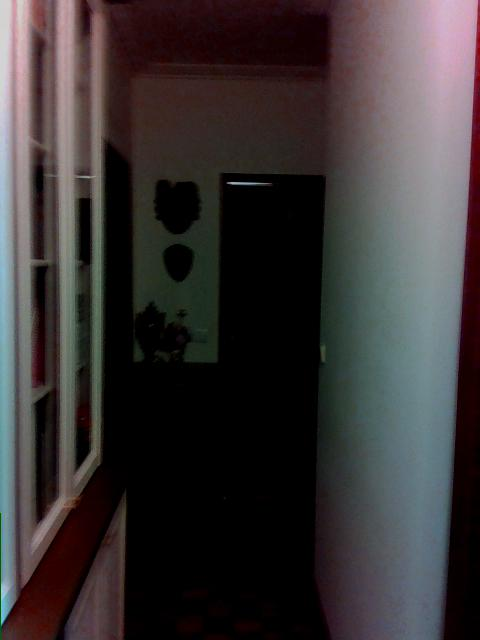closed_door: (213, 173, 323, 499)
